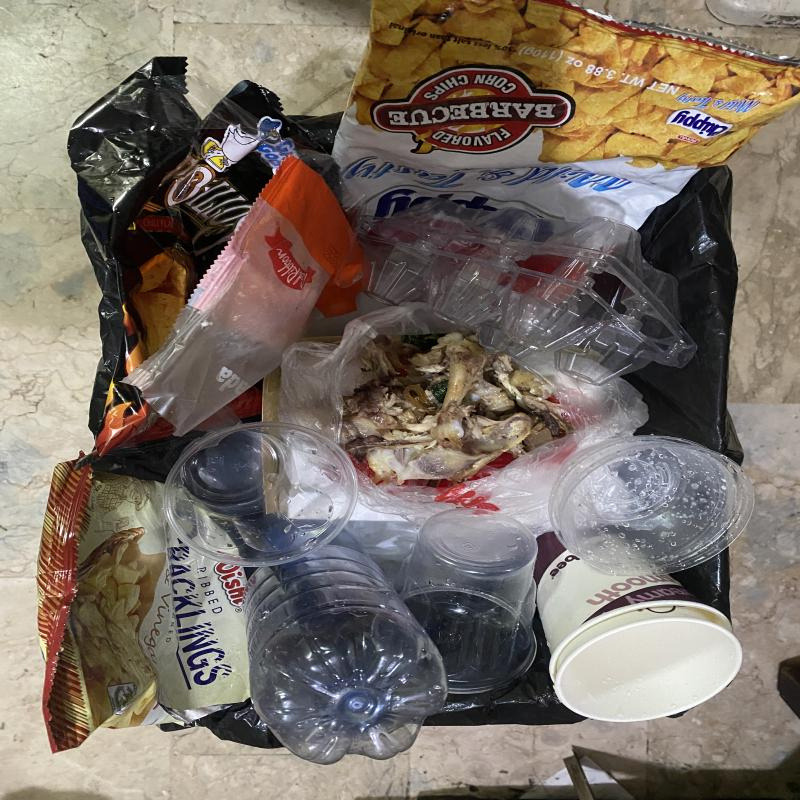cardboard: (534, 535, 742, 725)
food wrapper: (332, 0, 800, 236), (69, 59, 343, 455), (120, 153, 373, 435), (37, 464, 250, 755)
left-over food: (345, 331, 554, 479)
plastic bottle: (243, 526, 446, 765)
plastic container: (361, 194, 698, 388), (542, 437, 754, 577), (164, 422, 356, 563), (405, 505, 540, 695)
